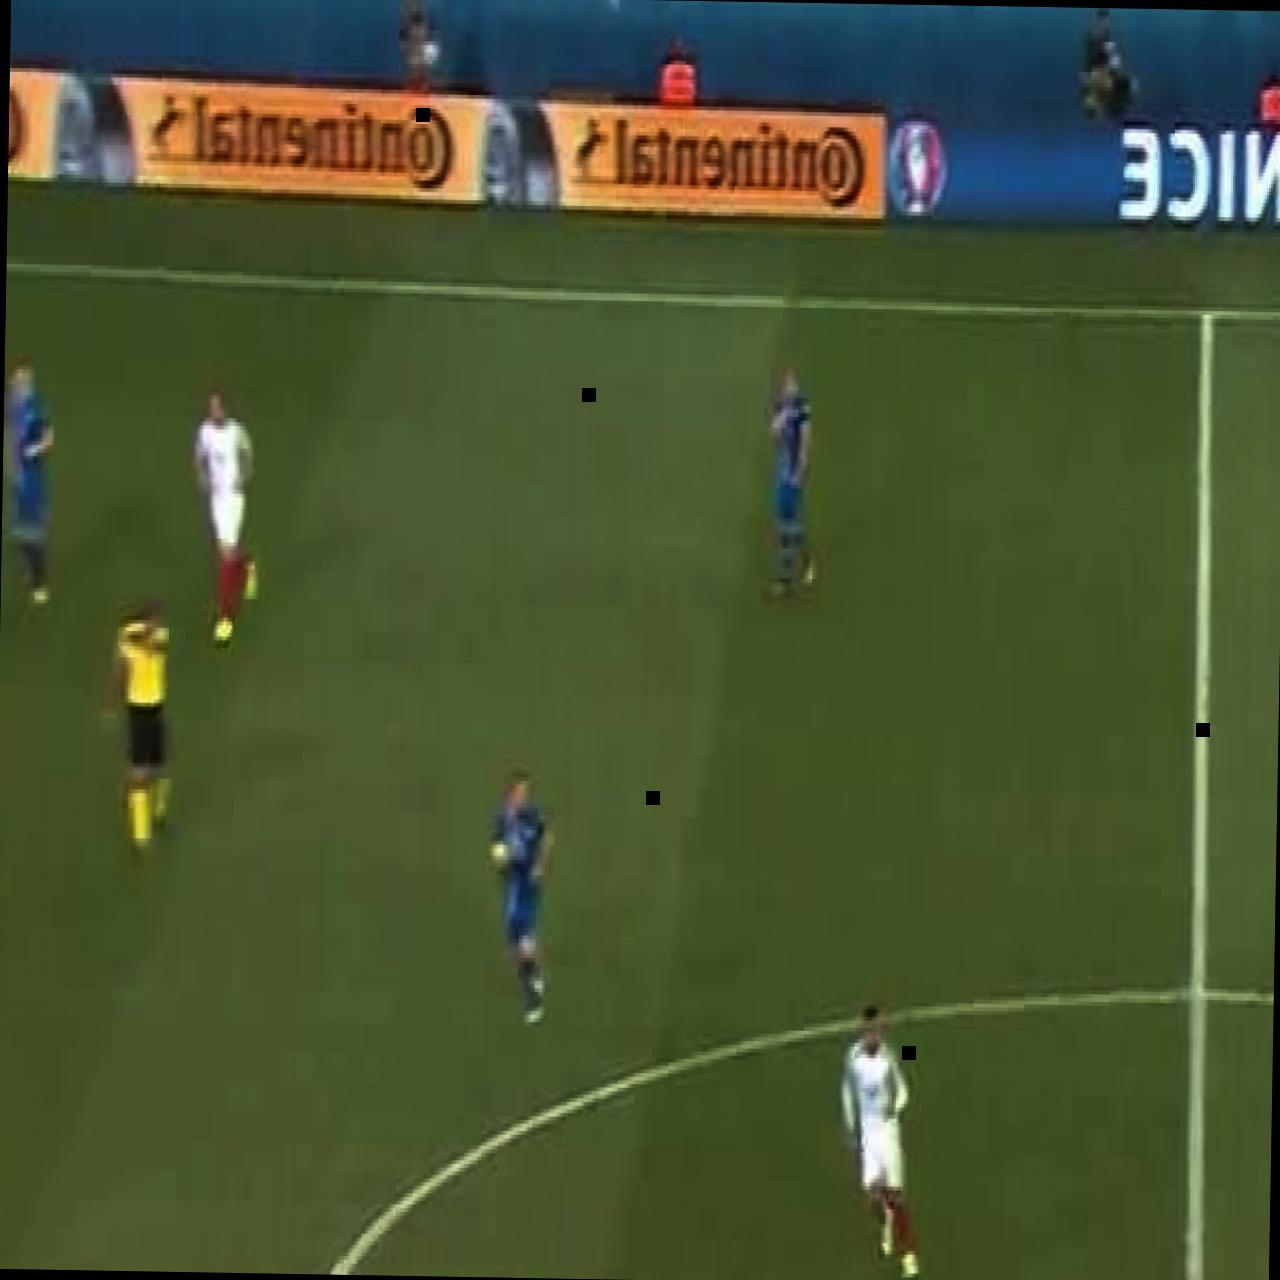football: (836, 1003, 923, 1280), (489, 762, 558, 1034), (191, 396, 263, 649), (107, 608, 172, 857), (0, 362, 58, 611), (764, 368, 820, 601)
